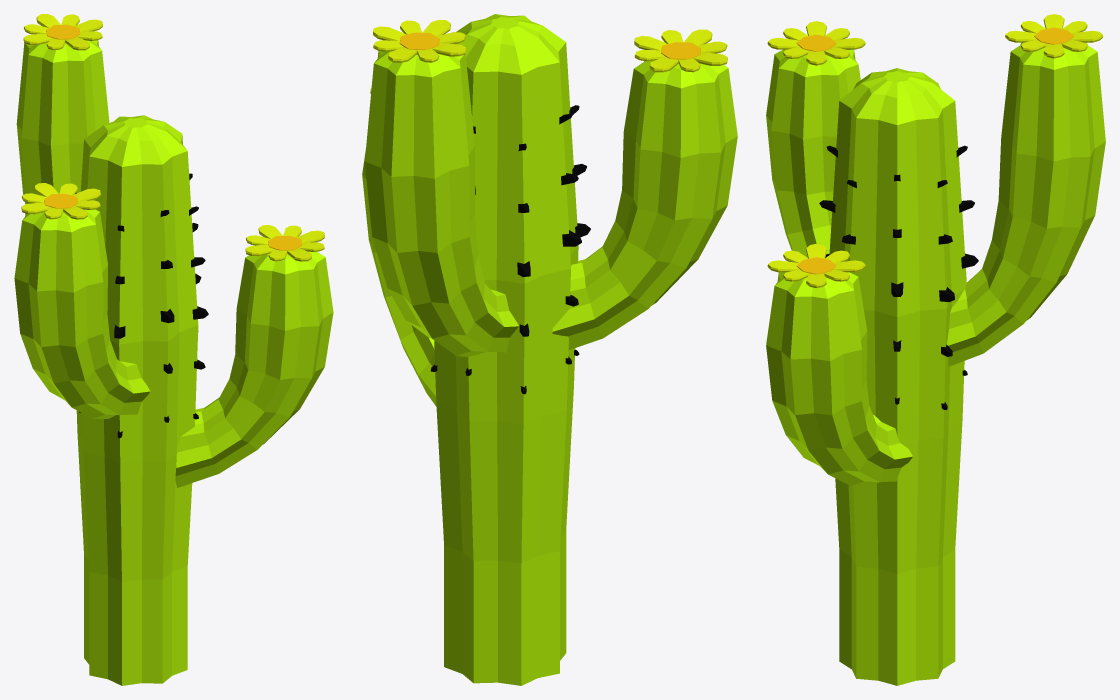
Rendered from Cardon02_03Brazos_Flor_Amarilla.fbx.
The picture shows the model from 3 angles, left to right: view 1: azimuth 30°, elevation 25°; view 2: azimuth 150°, elevation 25°; view 3: azimuth 270°, elevation 25°; orthographic projection. The views are drawn at different scales.
Parts seen in each view (by area): view 1: Cactus, Flor_Amarilla, Espinas; view 2: Cactus, Flor_Amarilla, Espinas; view 3: Cactus, Flor_Amarilla, Espinas.
Part boxes in pixels (x1,y1,x2,y2): Cactus: [14, 40, 333, 685]; Flor_Amarilla: [21, 14, 324, 261]; Espinas: [75, 173, 208, 438]; Cactus: [362, 14, 737, 685]; Flor_Amarilla: [370, 20, 727, 93]; Espinas: [430, 105, 590, 394]; Cactus: [766, 42, 1105, 685]; Flor_Amarilla: [767, 14, 1103, 287]; Espinas: [819, 145, 978, 409].
Bounding box in the file's own units: 124 × 226 × 111.
